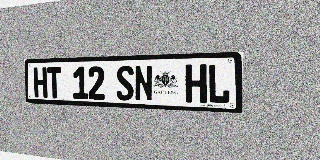1: (72, 66, 88, 99)
2: (88, 66, 105, 100)
H: (185, 64, 207, 103), (33, 67, 48, 98)
L: (208, 64, 230, 104)
N: (134, 65, 153, 101)
S: (116, 66, 134, 101)
T: (47, 67, 62, 98)
